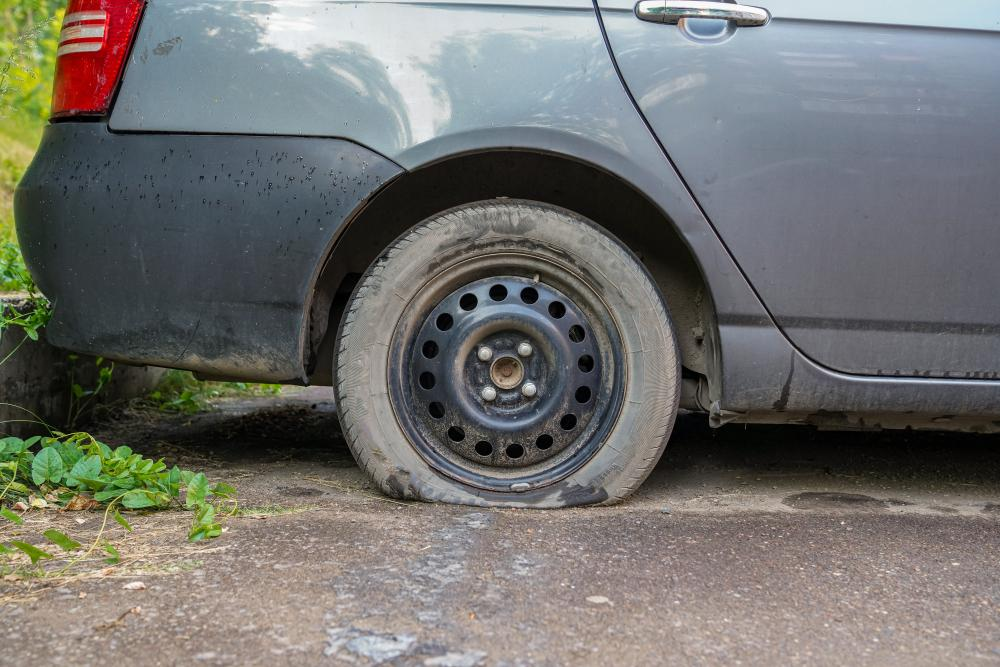tire flat: (331, 198, 677, 509)
